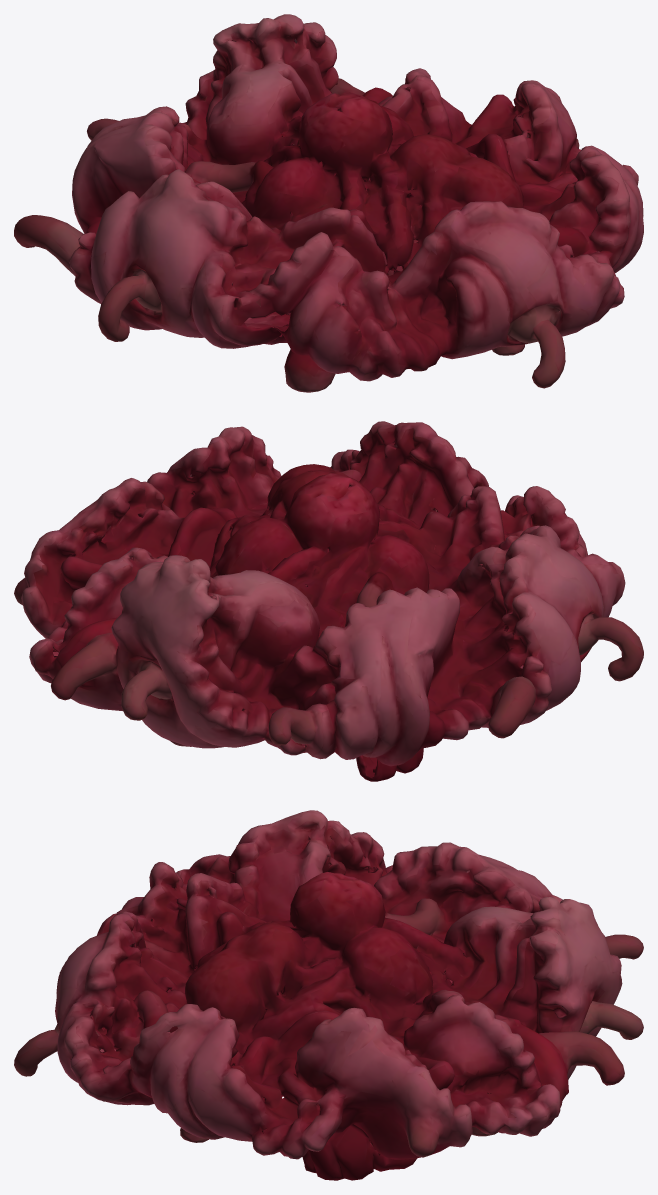
Rendered from SARGK0_2026-08-17T000352.698.glb.
3 views of the same model, one above another, from view 1: azimuth 30°, elevation 25°; view 2: azimuth 150°, elevation 25°; view 3: azimuth 270°, elevation 25° (orthographic).
Parts seen in each view (by area): view 1: world; view 2: world; view 3: world.
Boxes of the visible parts, x1,y1,x2,y2 form: world: [14, 14, 643, 392]; world: [14, 421, 643, 781]; world: [14, 810, 643, 1180].
Bounding box in the file's own units: 0.9973 × 0.3871 × 1.
1 material, 1 textured.
